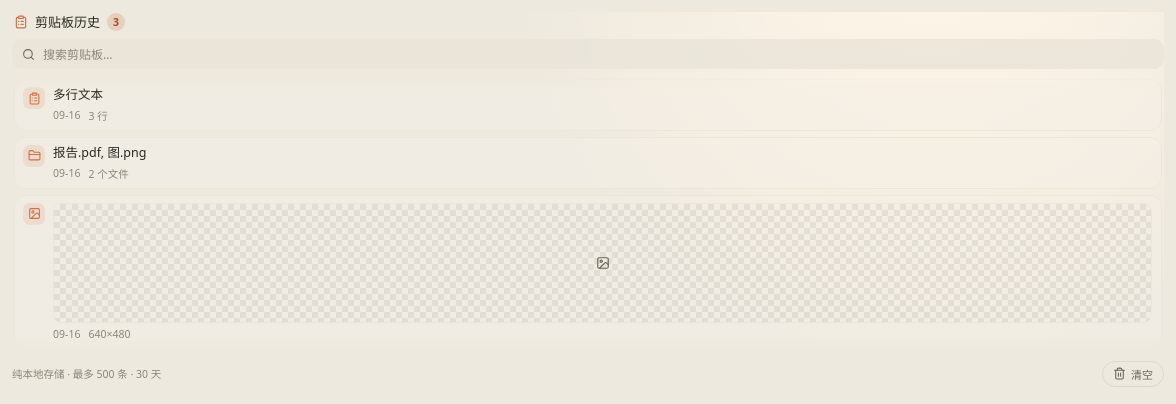
Test: ClipboardHistoryWidget › 搜索无结果时清空按钮仍可用（hasAny 而非过滤列表判定）
The image size is (1176, 404).
Type "zzz" into the field labelled "搜索剪贴板…" at coordinates (598, 54), box x1=41 y1=40 x2=1154 y2=68
Wait 250 ms
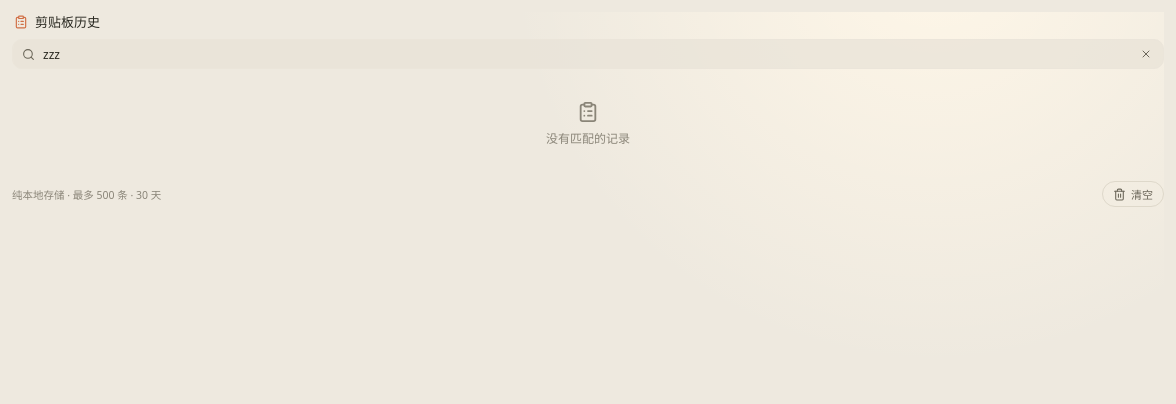
expect the button with aria-label "清空剪贴板历史" is enabled: met, box x1=1102 y1=181 x2=1164 y2=207
expect the text "没有匹配的记录" is shown: met, box x1=546 y1=129 x2=630 y2=147
